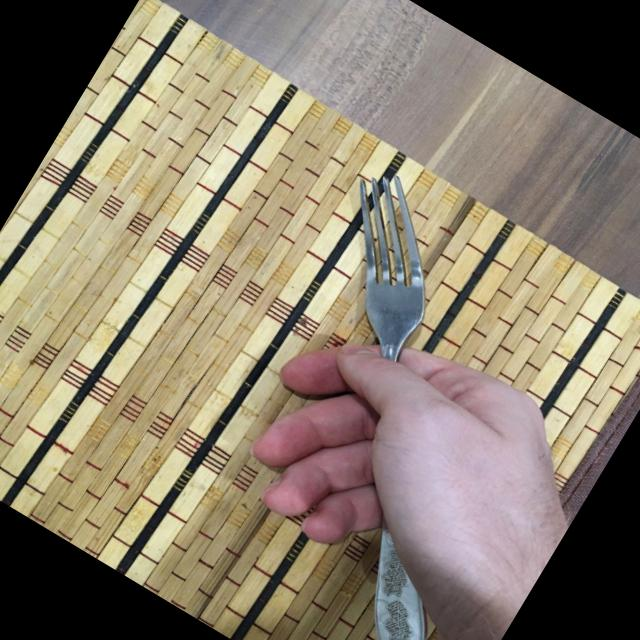fork: (151, 160, 625, 640)
